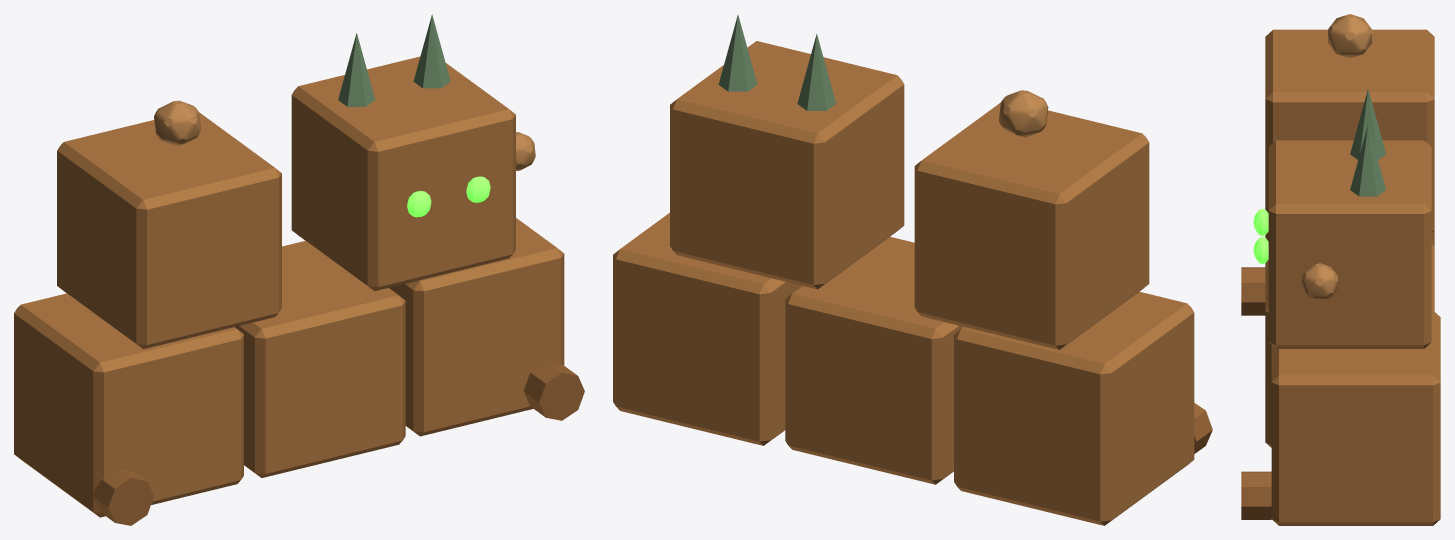
File: zc_cardboard_barricade.mobile-low.glb
3 renders of one model, left to right at view 1: azimuth 30°, elevation 25°; view 2: azimuth 150°, elevation 25°; view 3: azimuth 270°, elevation 25°, orthographic. The views are drawn at different scales.
Parts seen in each view (by area): view 1: zc_cardboard_barricade; view 2: zc_cardboard_barricade; view 3: zc_cardboard_barricade.
Boxes of the visible parts, box(x1,y1,x2,y2) form: zc_cardboard_barricade: box(14, 14, 584, 525); zc_cardboard_barricade: box(613, 14, 1212, 525); zc_cardboard_barricade: box(1241, 14, 1440, 525).
Bounding box in the file's own units: 1.77 × 1.33 × 0.66.
1 material, 1 textured.
